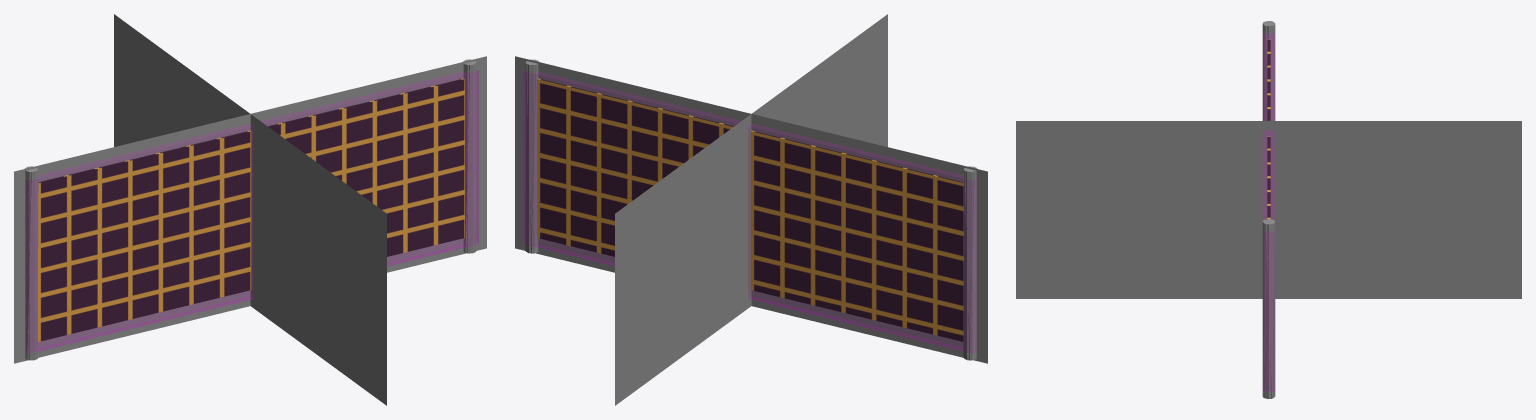
Rendered from safetynet_yellow_3m.dae.
3 views of the same model, side by side, from view 1: azimuth 30°, elevation 25°; view 2: azimuth 150°, elevation 25°; view 3: azimuth 270°, elevation 25° (orthographic). The views are drawn at different scales.
Parts seen in each view (by area): view 1: safetynet_yellow_3m_a800, Colmesh_panel-1, safetynet_yellow_3m_a50, safetynet_yellow_3m_a200; view 2: safetynet_yellow_3m_a800, Colmesh_panel-1, safetynet_yellow_3m_a50, safetynet_yellow_3m_a200; view 3: safetynet_yellow_3m_a50, safetynet_yellow_3m_a800, Colmesh_panel-1, safetynet_yellow_3m_a200.
Part boxes in pixels (<box>): safetynet_yellow_3m_a800: <box>24,59,476,360</box>; Colmesh_panel-1: <box>26,70,478,353</box>; safetynet_yellow_3m_a50: <box>14,14,486,405</box>; safetynet_yellow_3m_a200: <box>26,59,476,360</box>; safetynet_yellow_3m_a800: <box>525,59,977,360</box>; Colmesh_panel-1: <box>523,70,975,353</box>; safetynet_yellow_3m_a50: <box>515,14,987,405</box>; safetynet_yellow_3m_a200: <box>525,60,976,360</box>; safetynet_yellow_3m_a50: <box>1016,121,1521,298</box>; safetynet_yellow_3m_a800: <box>1262,21,1275,398</box>; Colmesh_panel-1: <box>1263,32,1274,391</box>; safetynet_yellow_3m_a200: <box>1263,21,1274,398</box>.
Bounding box in the file's own units: 3.15 × 3.15 × 1.22.
Materials: 3 (1 with a texture image).
